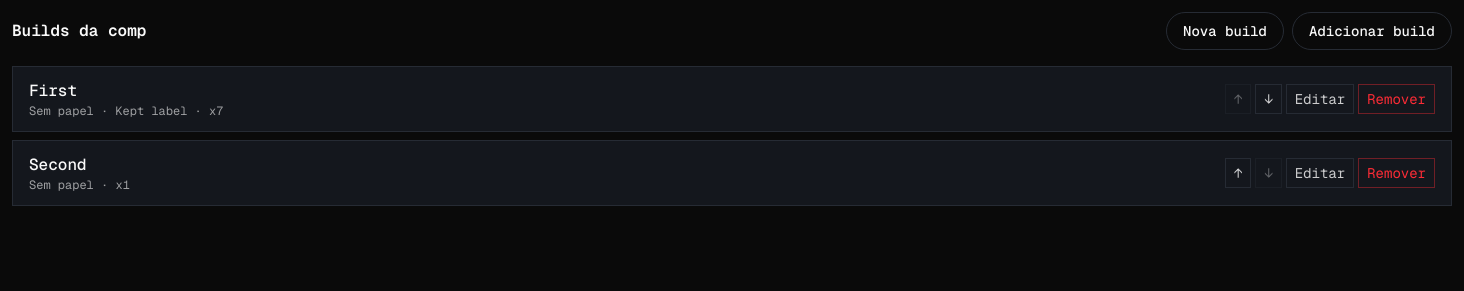
Test: CompBuildsManager (ACM-098) › reconciliation: a failed reorder swaps only the two moved entries back by id, leaving other entries' fields untouched
Click the button "↓" in the row of "· Kept label" at x=1269, y=99, box [1255,84,1282,114]
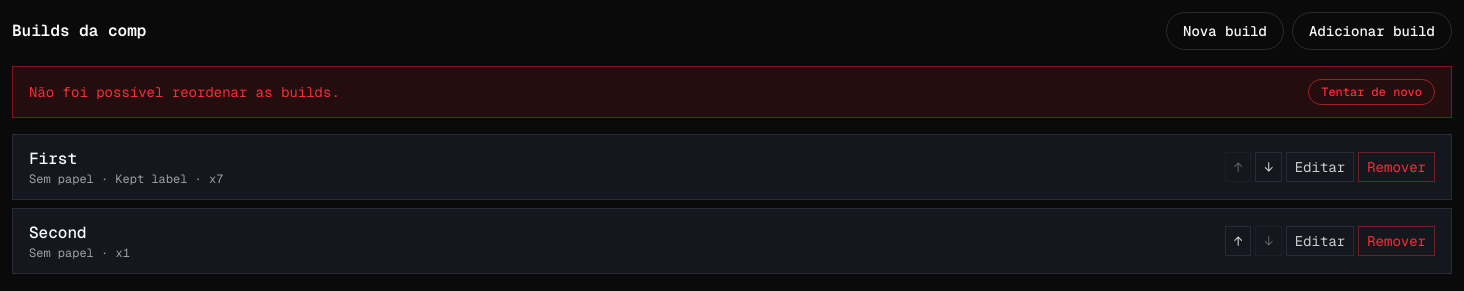
Expected: the text "Não foi possível reordenar as builds." is shown, [29,82,340,102]
